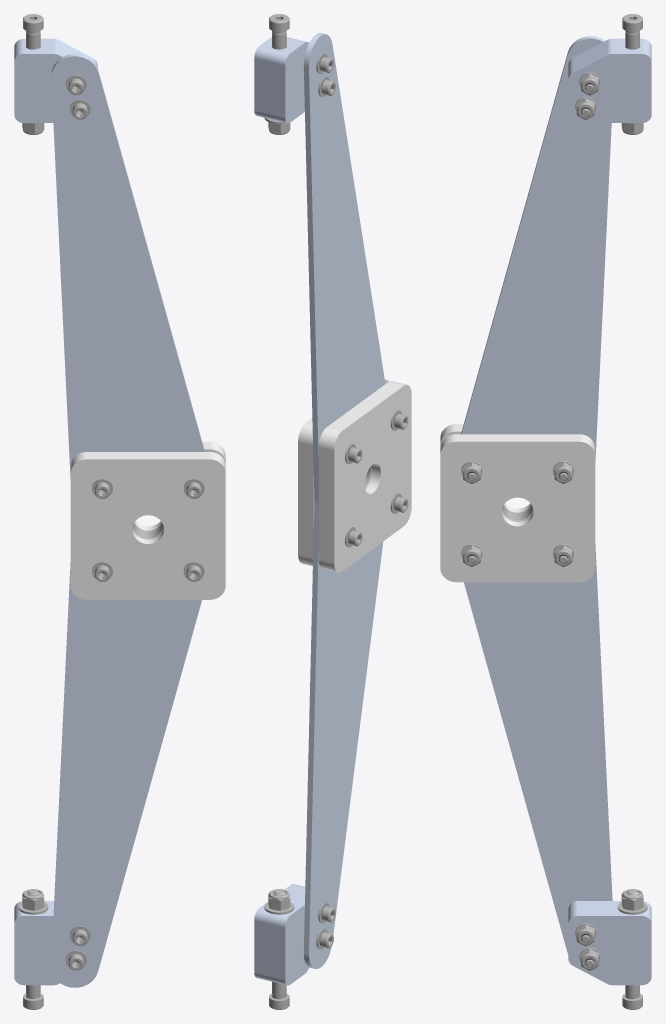
Rendered from Diff Bar.glb.
3 views of the same model, side by side, from view 1: azimuth 90°, elevation 25°; view 2: azimuth 150°, elevation 25°; view 3: azimuth 270°, elevation 25° (orthographic).
Visible parts, largest first — view 1: Diff Bar; view 2: Diff Bar; view 3: Diff Bar.
Boxes of the visible parts, left/top/right/bottom form: Diff Bar: left=14, top=14, right=225, bottom=1009; Diff Bar: left=254, top=14, right=411, bottom=1009; Diff Bar: left=440, top=14, right=651, bottom=1009.
Size of the model in its own units: 0.0461 by 0.5803 by 0.1126.
